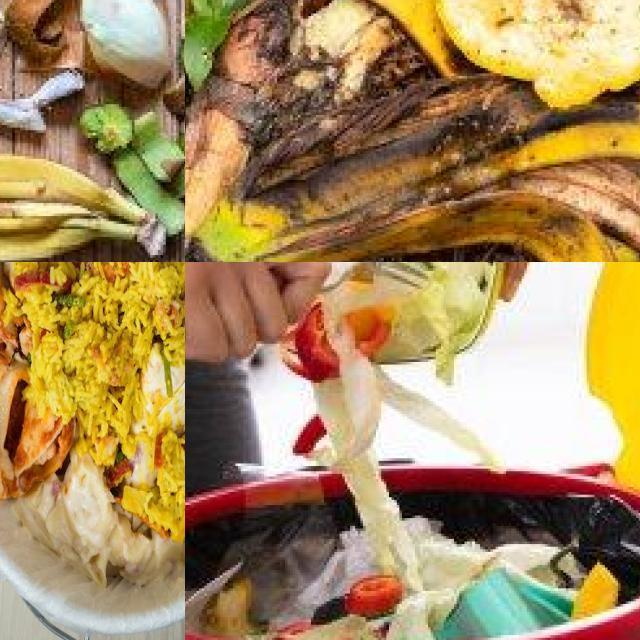Garbage: (185, 0, 640, 262), (0, 262, 185, 613), (185, 519, 620, 640), (271, 529, 379, 626)
